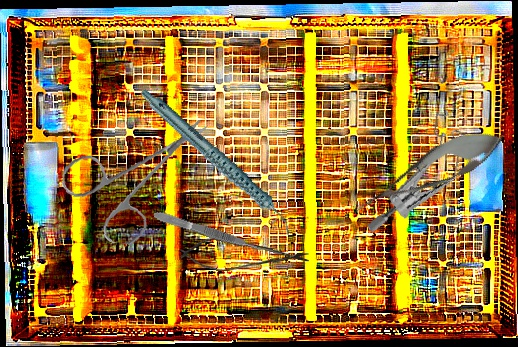Handpiece: (139, 64, 296, 260)
Iris Scissors: (55, 104, 209, 253)
Micro Scissor: (343, 114, 515, 230), (179, 237, 310, 273)
Speculum: (365, 96, 472, 248)
Tissue Forceps: (152, 208, 265, 257)
